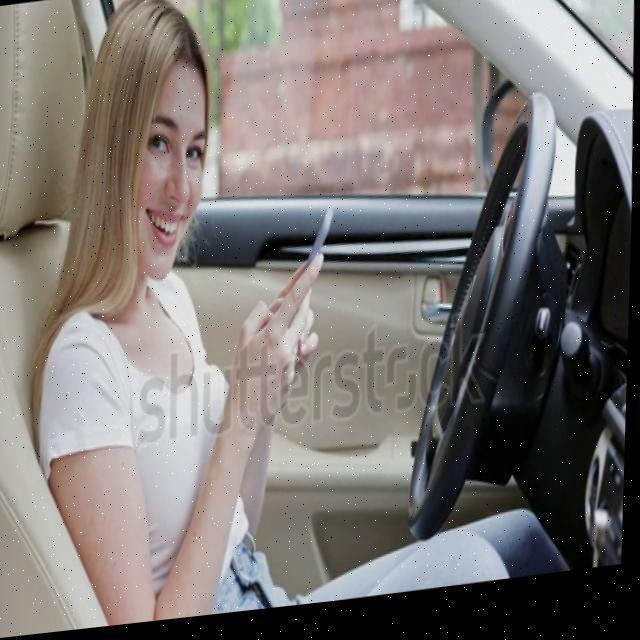PhoneCall: (287, 216, 337, 310)
